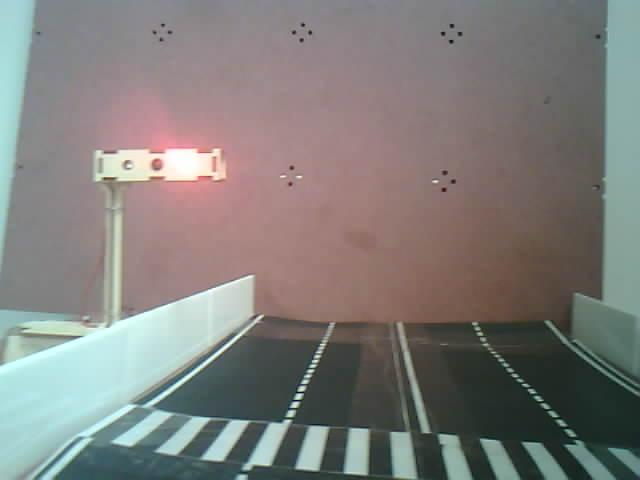crosswalk: (56, 408, 639, 479)
red: (71, 132, 233, 273)
